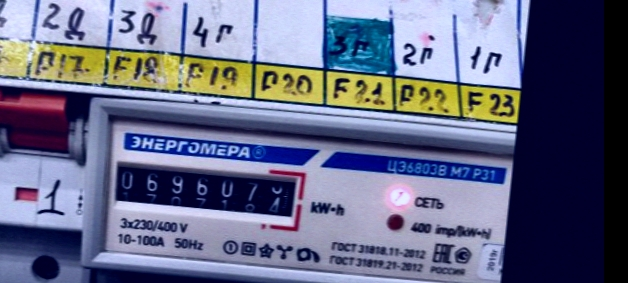0: (218, 174, 235, 197), (118, 167, 134, 189)
4: (266, 192, 281, 214)
6: (143, 168, 159, 190), (193, 173, 209, 195)
7: (242, 178, 260, 201)
9: (168, 171, 183, 193)
screen: (99, 148, 310, 228)
